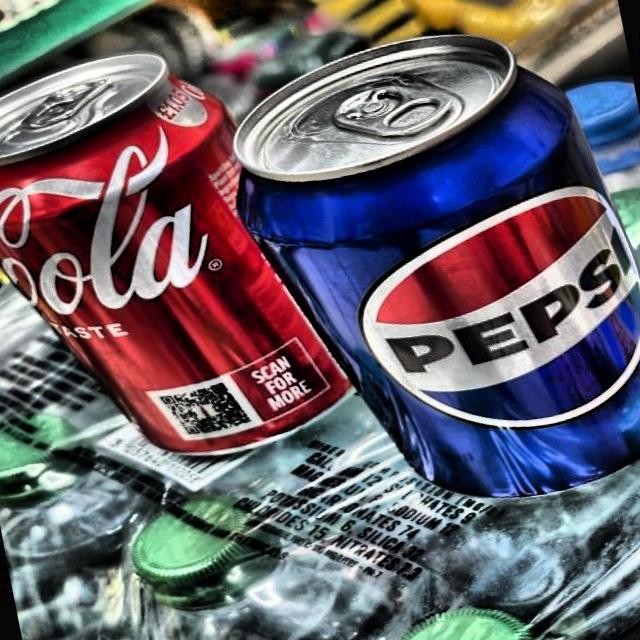coke-can: (2, 70, 341, 442)
pepsi-can: (239, 48, 640, 494)
